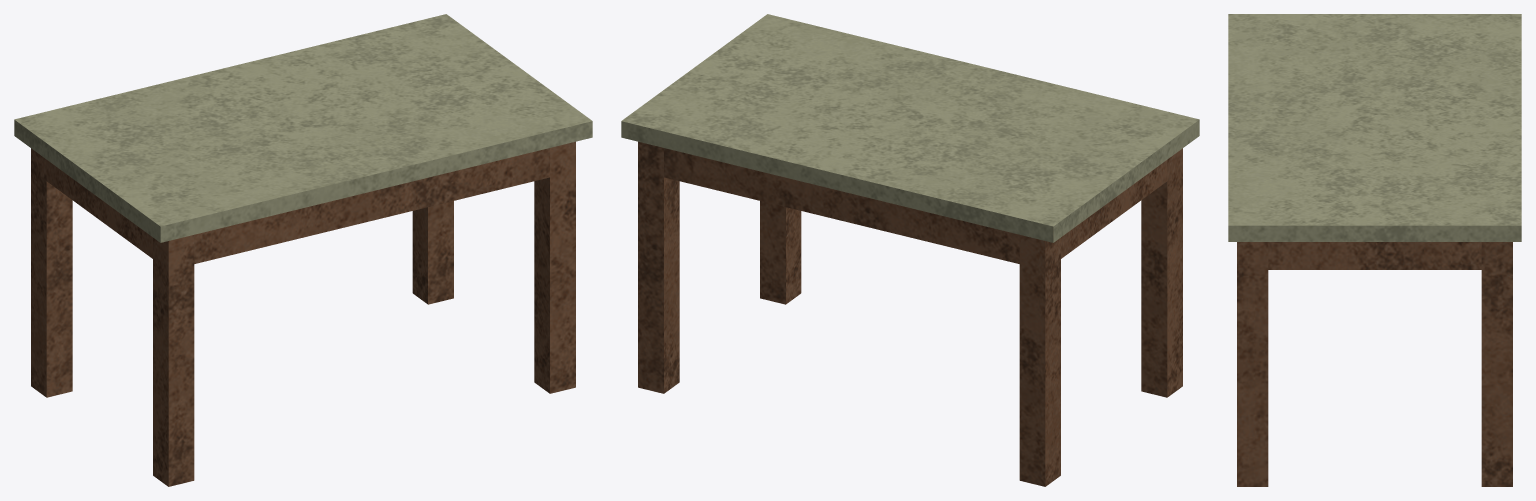
The model's file is Table.fbx.
The picture shows the model from 3 angles, left to right: view 1: azimuth 30°, elevation 25°; view 2: azimuth 150°, elevation 25°; view 3: azimuth 270°, elevation 25°; orthographic projection.
Parts seen in each view (by area): view 1: Cube.054; view 2: Cube.054; view 3: Cube.054.
Boxes of the visible parts, box(x1,y1,x2,y2) form: Cube.054: box(14, 14, 592, 486); Cube.054: box(621, 14, 1199, 486); Cube.054: box(1228, 14, 1521, 486).
Bounding box in the file's own units: 195 × 115 × 114.
Materials: 1 (1 with a texture image).
